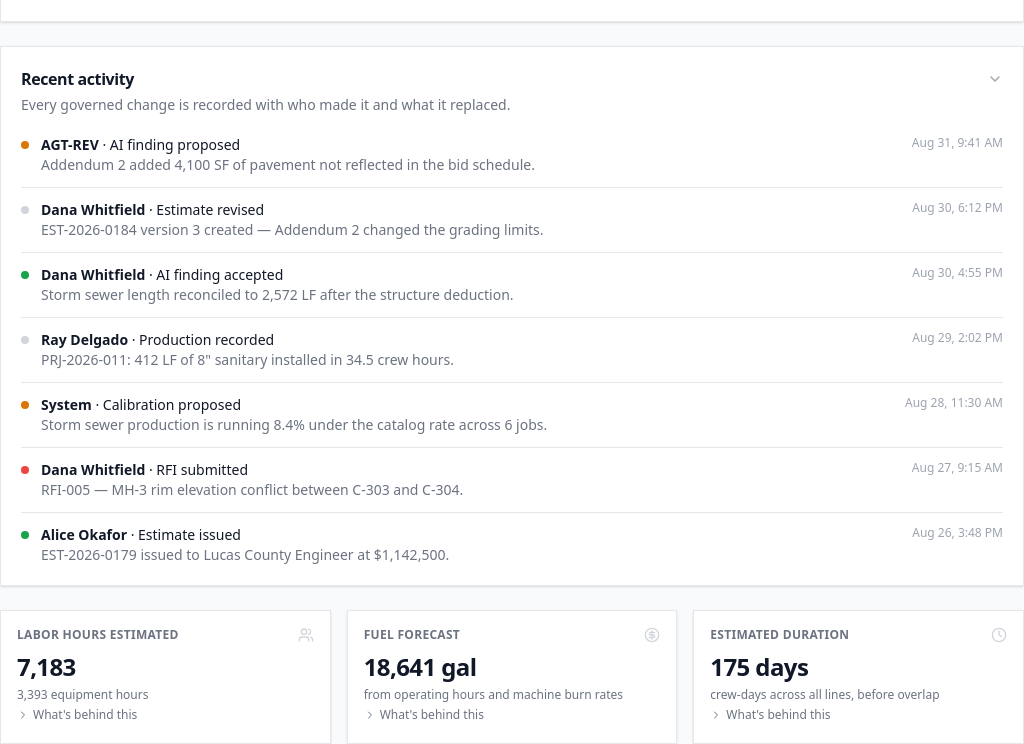
Test case: the sample dashboard › says a fuel forecast is burn rates and not a percentage of the machine cost
This screenshot has width=1024, height=744.
(page scrolled)
Click the button with aria-label "What is behind Fuel forecast": (412, 635) [364,627,660,723]
(page scrolled)
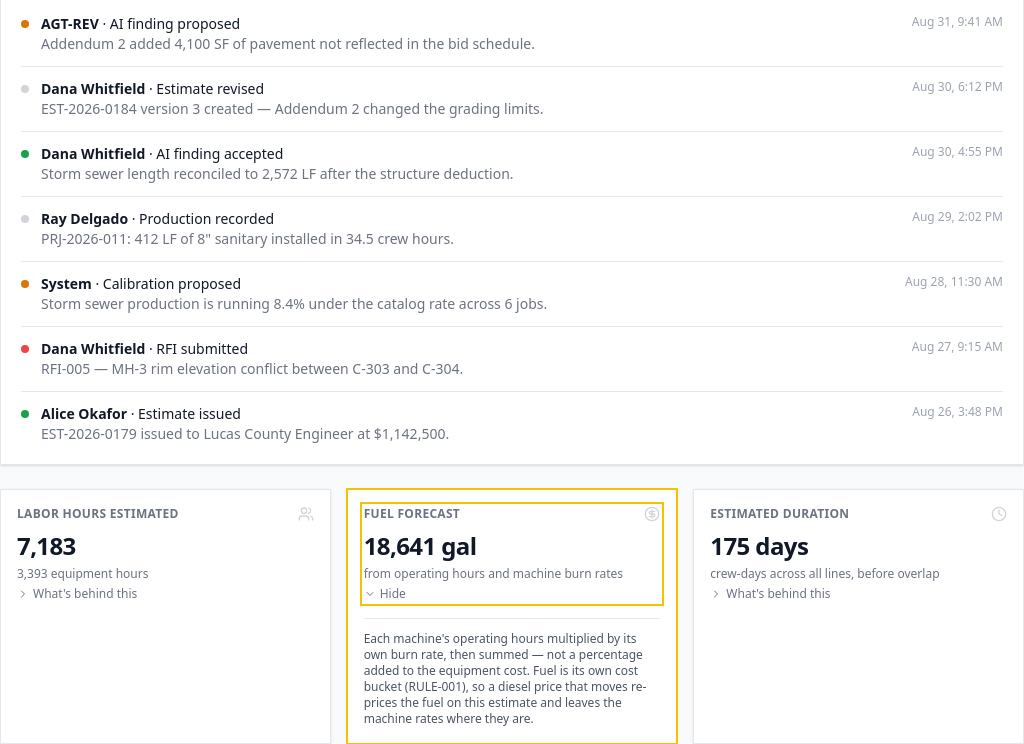
Expected: the text "not a percentage added to the equipment cost" is shown, [364,630,646,727]
